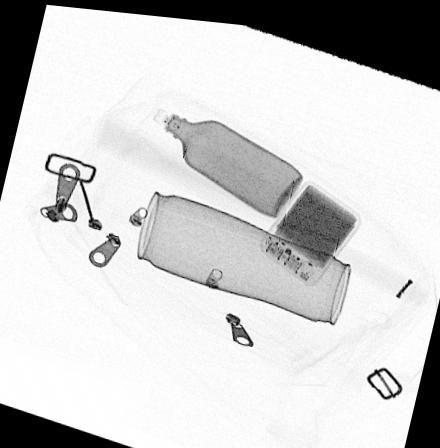Powerbank: (259, 173, 361, 280)
